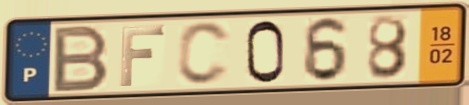0: (244, 18, 286, 86)
6: (301, 14, 351, 84)
8: (364, 14, 410, 82)
B: (49, 22, 113, 95)
C: (174, 19, 234, 88)
F: (117, 24, 167, 89)
